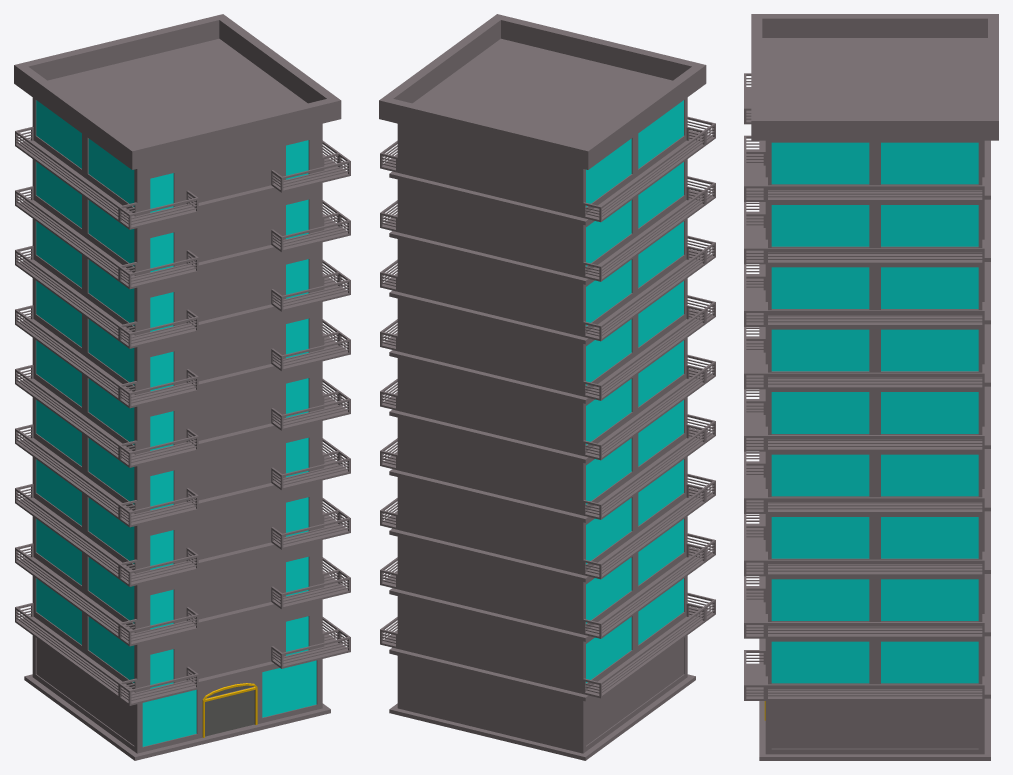
File: edificio (3).glb
3 views of the same model, side by side, from view 1: azimuth 30°, elevation 25°; view 2: azimuth 150°, elevation 25°; view 3: azimuth 270°, elevation 25° (orthographic). The views are drawn at different scales.
Parts seen in each view (by area): view 1: Edificio, Ventanas, Vnetanitas, Puerta, MarcoPuerta; view 2: Edificio, Ventanas; view 3: Edificio, Ventanas.
Boxes of the visible parts, <box> form: Edificio: <box>14,14,350,760</box>; Ventanas: <box>36,100,316,746</box>; Vnetanitas: <box>150,140,308,688</box>; Puerta: <box>205,690,254,736</box>; MarcoPuerta: <box>202,683,257,737</box>; Edificio: <box>379,14,715,760</box>; Ventanas: <box>586,100,683,682</box>; Edificio: <box>744,14,998,760</box>; Ventanas: <box>771,142,978,683</box>.
Size of the model in its own units: 12.37 by 32.8 by 11.77.
